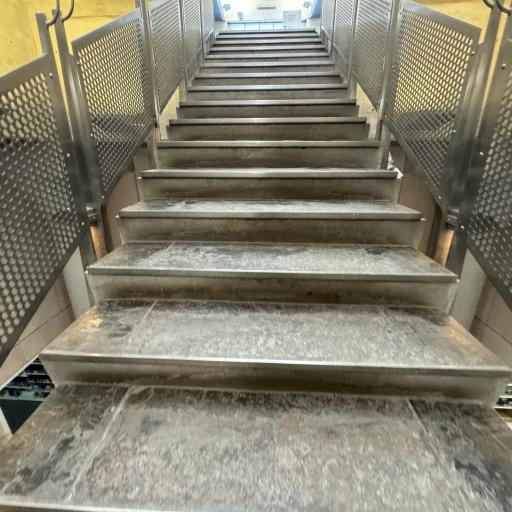Stairs: (0, 21, 512, 512), (40, 300, 510, 400), (87, 237, 457, 311), (117, 198, 423, 247), (138, 168, 401, 202), (156, 140, 383, 169), (167, 117, 369, 141), (176, 98, 359, 119), (188, 81, 347, 101), (192, 70, 343, 86), (200, 60, 335, 74)
